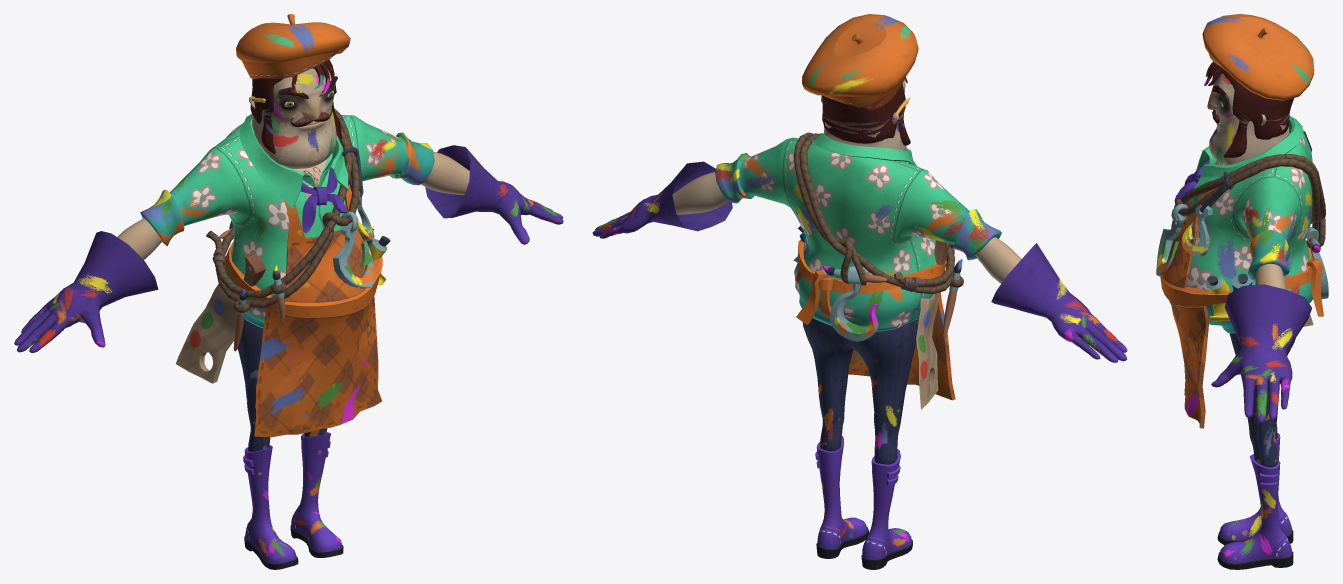
The picture shows the model from 3 angles, left to right: view 1: azimuth 30°, elevation 25°; view 2: azimuth 150°, elevation 25°; view 3: azimuth 270°, elevation 25°; orthographic projection. The views are drawn at different scales.
Parts seen in each view (by area): view 1: TORSO_Painter_Gloves_Default OBJ_0, ACCESSORY_Painter_Rope_Default OBJ.009_0, HEAD_Painter_Hat_NoFPS_Default OBJ.003_0, LEGS_Painter_Pants_Default OBJ.006_0; view 2: TORSO_Painter_Gloves_Default OBJ_0, LEGS_Painter_Pants_Default OBJ.006_0, ACCESSORY_Painter_Rope_Default OBJ.009_0, HEAD_Painter_Hat_NoFPS_Default OBJ.003_0; view 3: TORSO_Painter_Gloves_Default OBJ_0, ACCESSORY_Painter_Rope_Default OBJ.009_0, HEAD_Painter_Hat_NoFPS_Default OBJ.003_0, LEGS_Painter_Pants_Default OBJ.006_0.
Part boxes in pixels (bbox=[...]): TORSO_Painter_Gloves_Default OBJ_0: bbox=[14, 114, 563, 352]; ACCESSORY_Painter_Rope_Default OBJ.009_0: bbox=[176, 108, 390, 437]; HEAD_Painter_Hat_NoFPS_Default OBJ.003_0: bbox=[236, 14, 350, 168]; LEGS_Painter_Pants_Default OBJ.006_0: bbox=[237, 319, 343, 569]; TORSO_Painter_Gloves_Default OBJ_0: bbox=[592, 133, 1127, 362]; LEGS_Painter_Pants_Default OBJ.006_0: bbox=[802, 318, 917, 569]; ACCESSORY_Painter_Rope_Default OBJ.009_0: bbox=[793, 132, 963, 409]; HEAD_Painter_Hat_NoFPS_Default OBJ.003_0: bbox=[802, 14, 918, 150]; TORSO_Painter_Gloves_Default OBJ_0: bbox=[1175, 116, 1312, 423]; ACCESSORY_Painter_Rope_Default OBJ.009_0: bbox=[1156, 154, 1328, 428]; HEAD_Painter_Hat_NoFPS_Default OBJ.003_0: bbox=[1202, 14, 1314, 165]; LEGS_Painter_Pants_Default OBJ.006_0: bbox=[1217, 333, 1295, 569].
Bounding box in the file's own units: 210 × 197 × 58.19.
4 materials, 4 textured.
